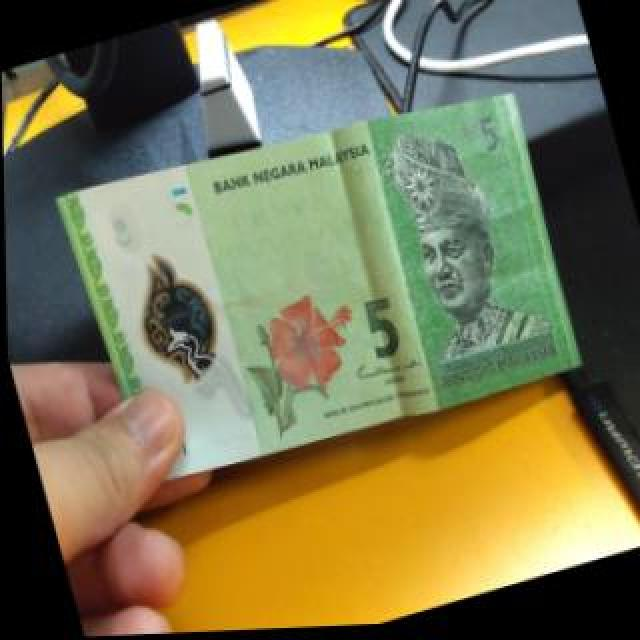5 Ringgit: (52, 62, 591, 503)
